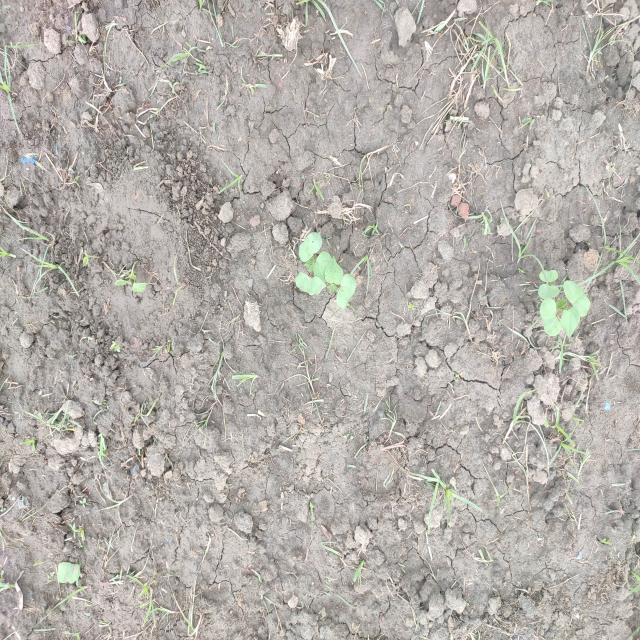seedling_s4: (563, 280, 590, 317), (540, 298, 561, 336), (298, 232, 322, 262), (336, 274, 356, 309), (559, 307, 580, 338), (313, 251, 332, 282), (325, 256, 343, 285), (295, 272, 314, 296), (538, 284, 559, 299), (311, 276, 326, 295), (539, 270, 558, 282), (132, 282, 148, 292), (304, 256, 314, 272), (115, 280, 132, 286), (327, 284, 337, 292)
